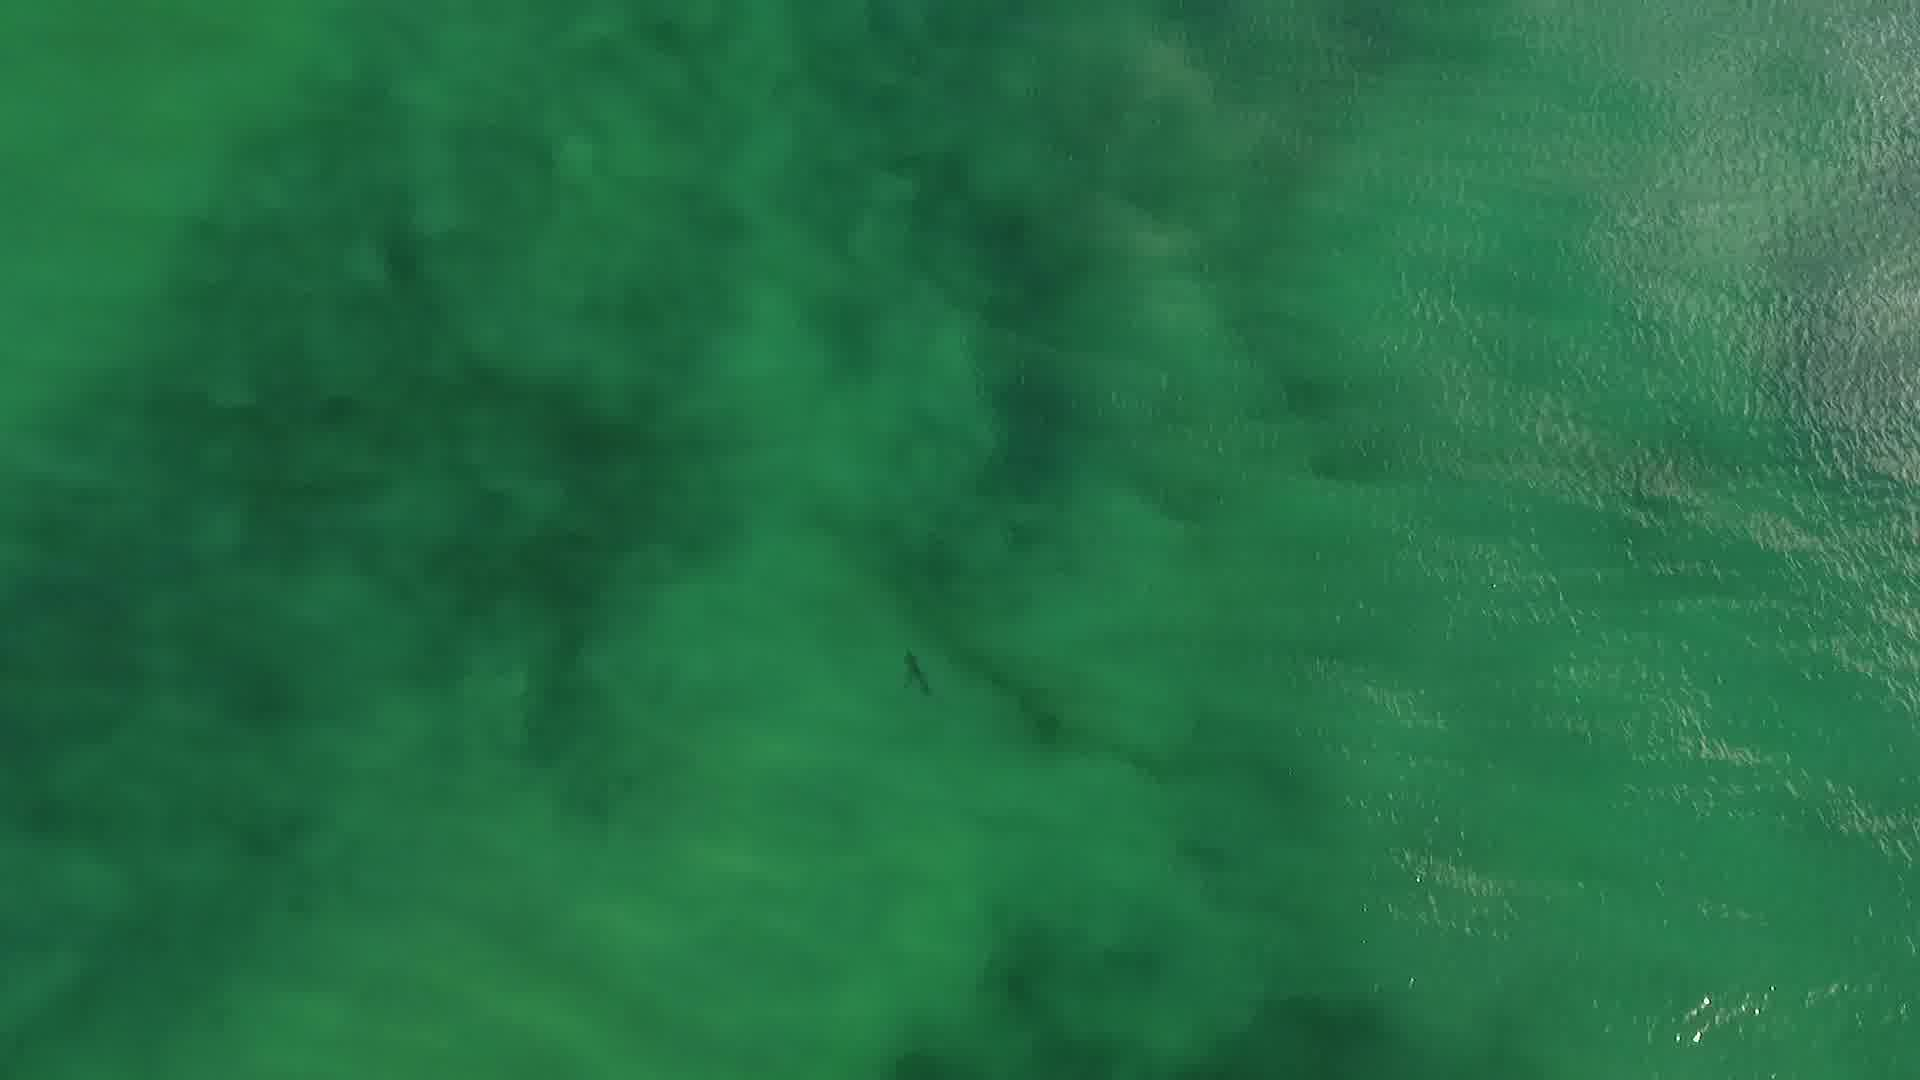shark: (894, 646, 936, 698)
